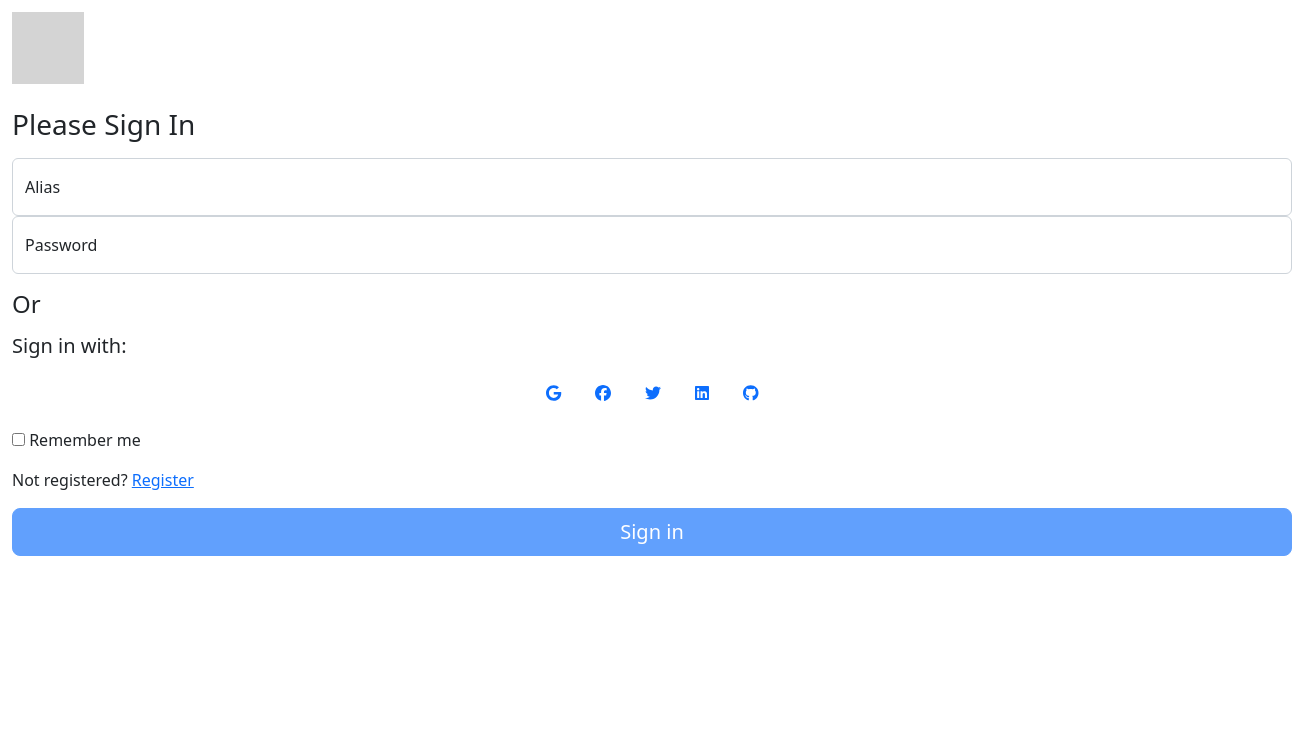
Test: Login Component › has the sign-in button disabled if either the alias or password field is cleared
This screenshot has width=1304, height=732.
Type "a" into the field labelled "Alias" at (652, 187), box [12,158,1292,216]
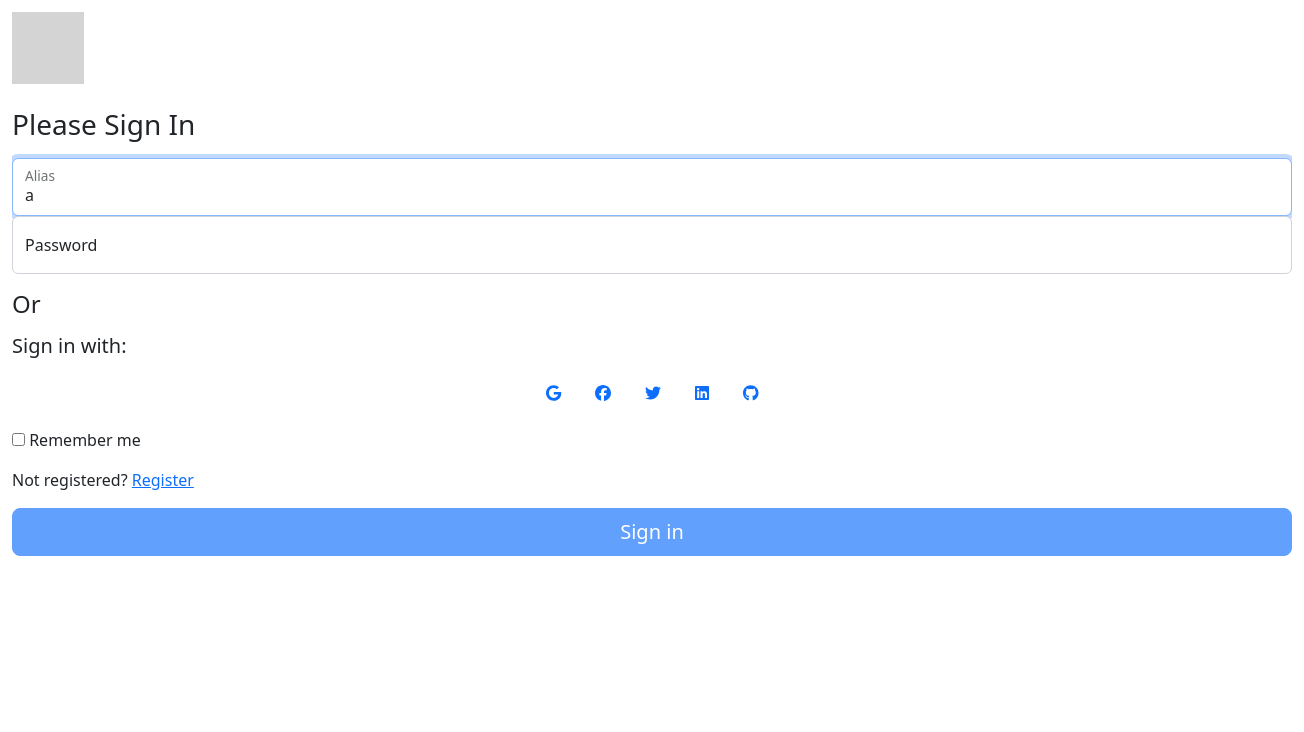
Type "b" into the password field labelled "Password" at (652, 245), box [12,216,1292,274]
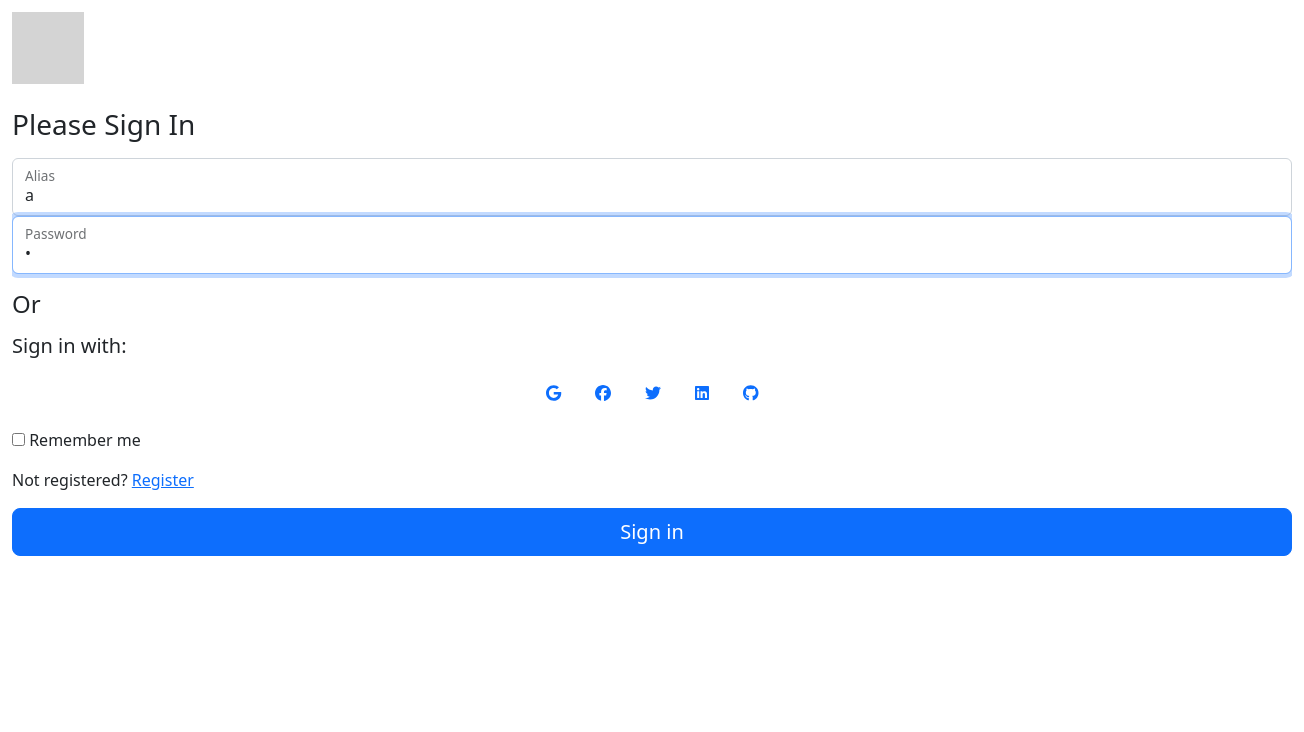
Clear the field labelled "Alias" at (652, 187), box [12,158,1292,216]
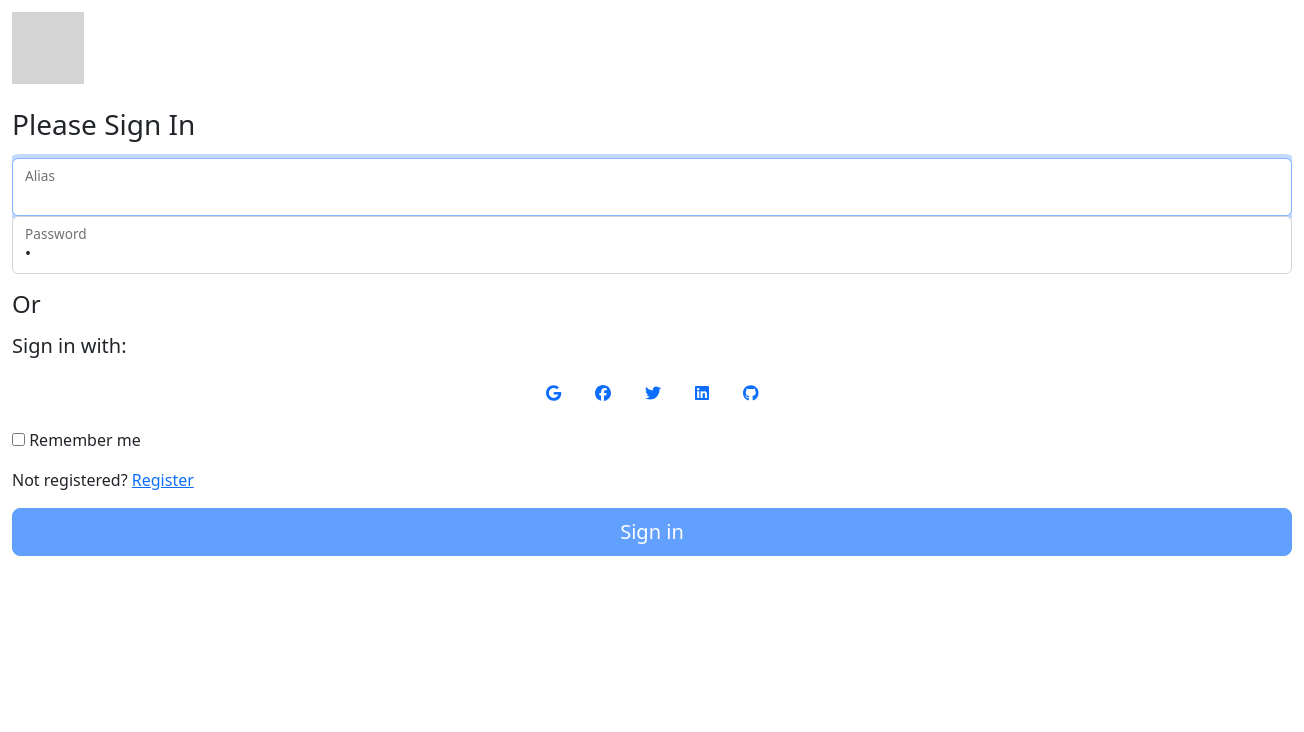
Expected: the button "Sign in" is disabled, [12,508,1292,556]
Type "c" into the field labelled "Alias" at (652, 187), box [12,158,1292,216]
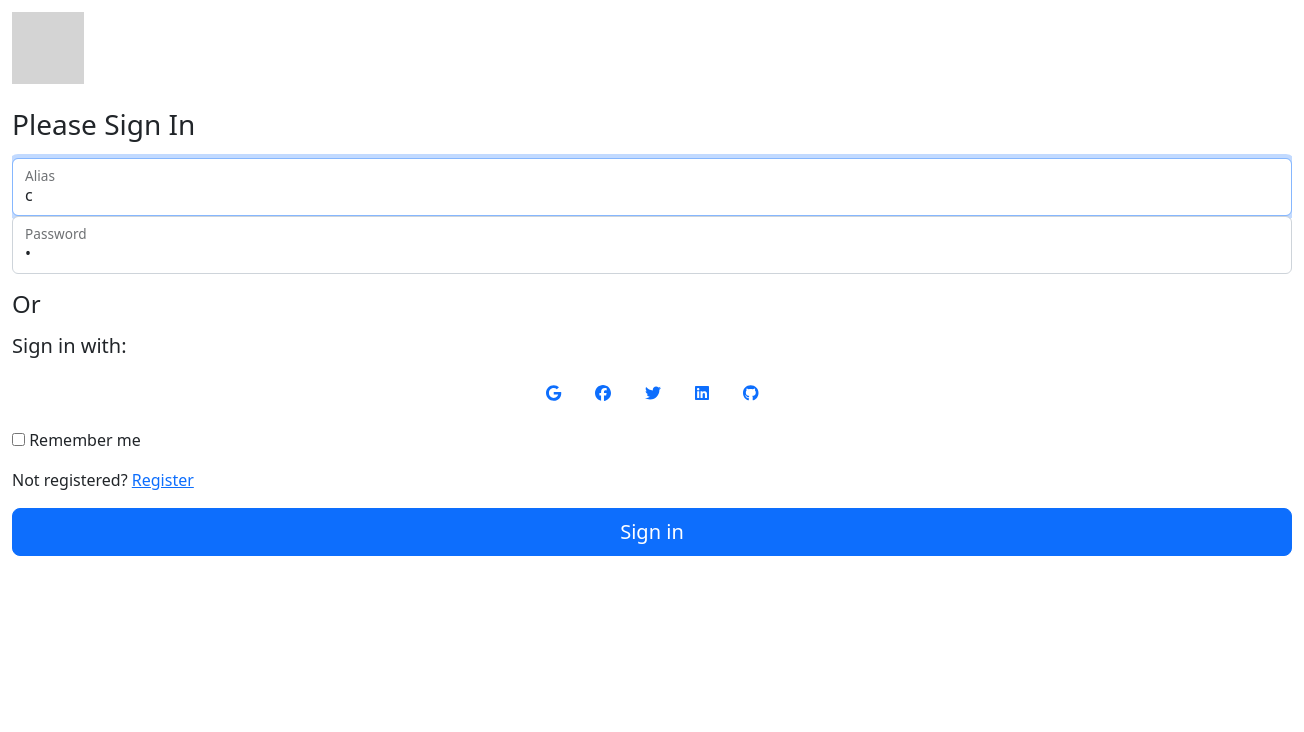
Type "d" into the password field labelled "Password" at (652, 245), box [12,216,1292,274]
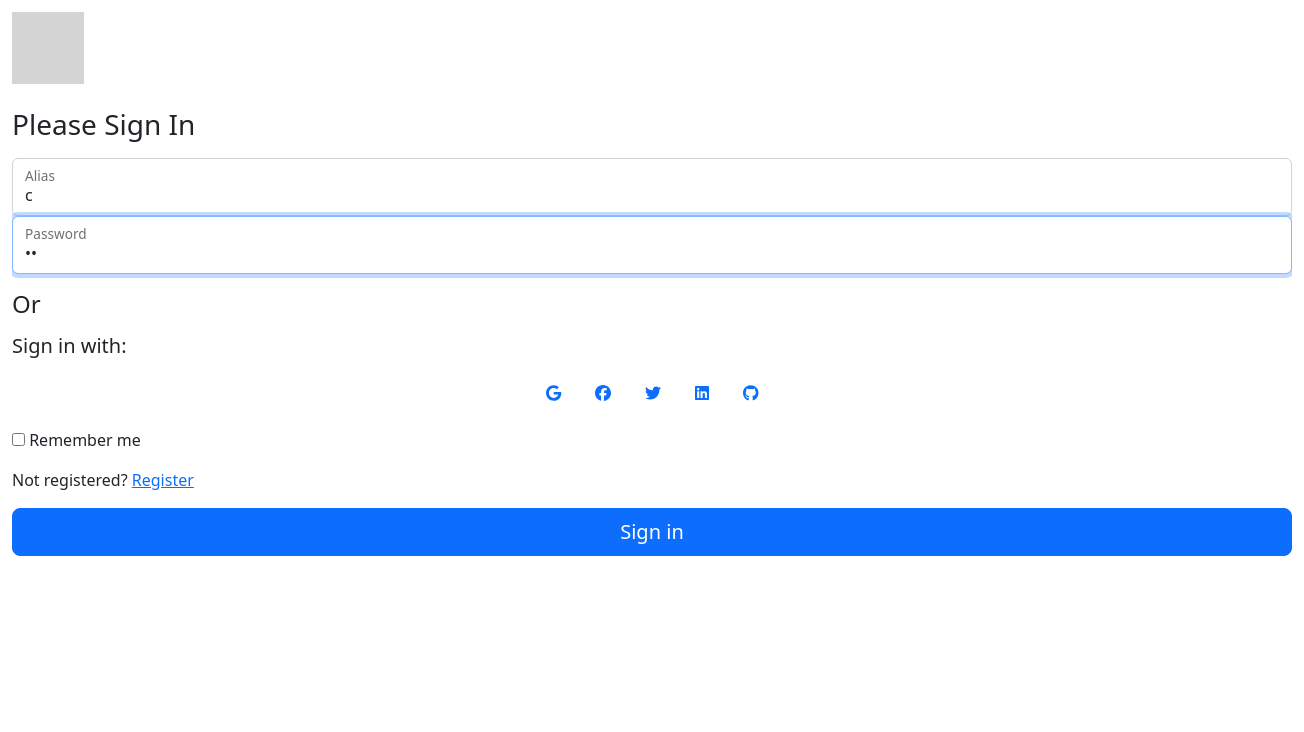
Expected: the button "Sign in" is enabled, [12,508,1292,556]
Clear the password field labelled "Password" at (652, 245), box [12,216,1292,274]
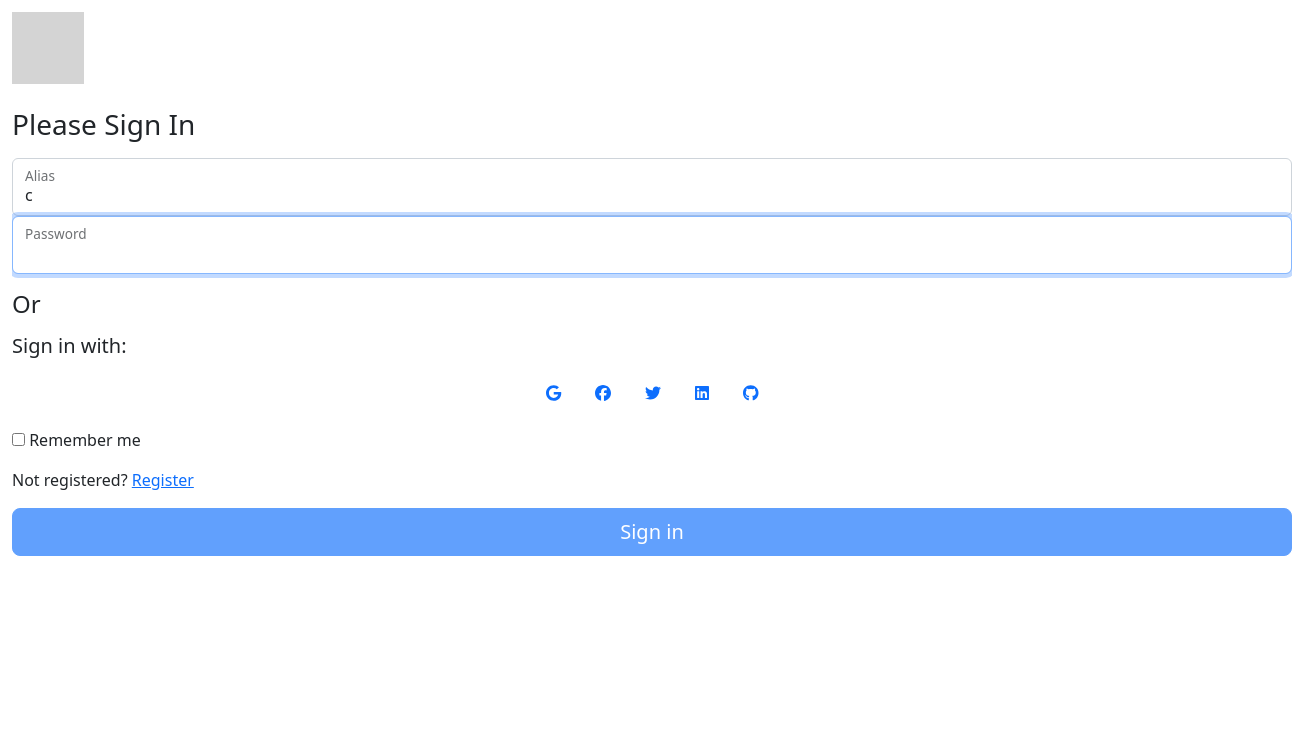
Expected: the button "Sign in" is disabled, [12,508,1292,556]
